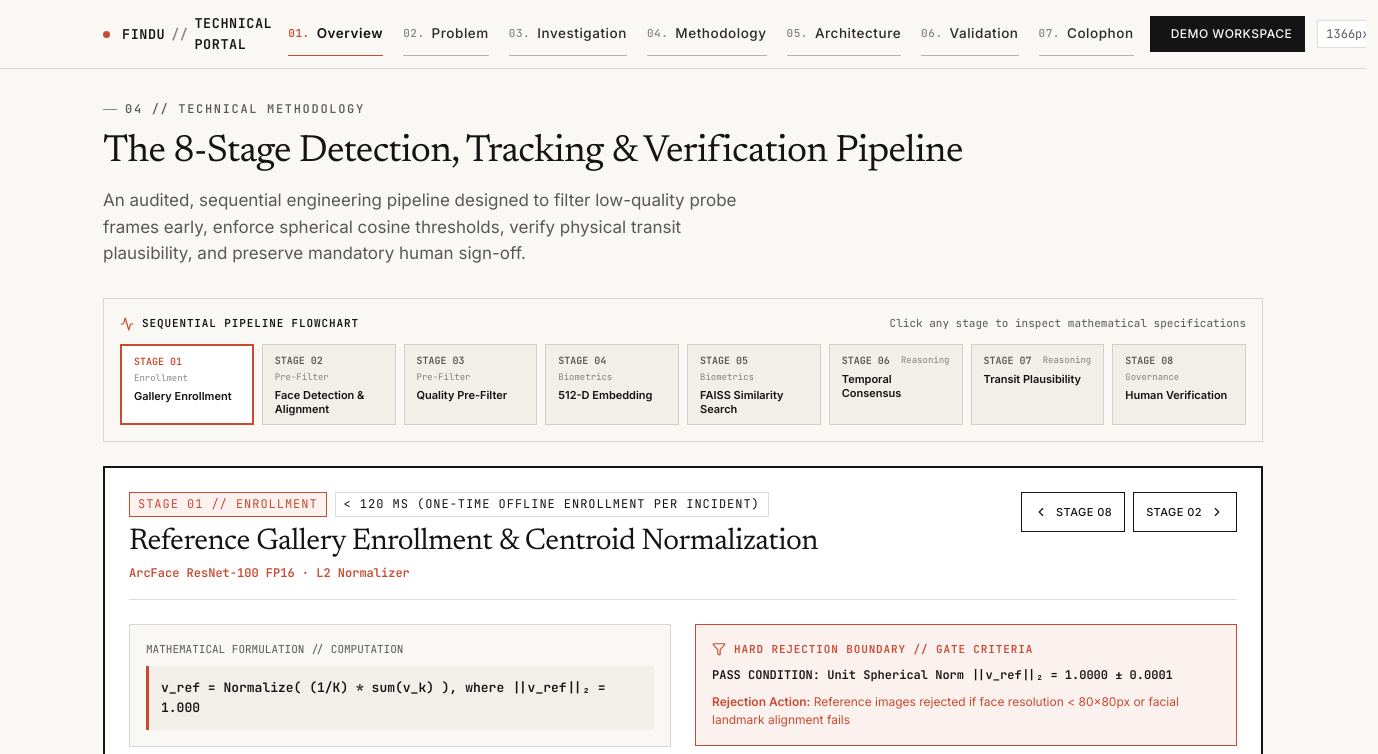
Test case: Phase P6: Technical Methodology & Architecture Verification › Section 04: Technical Methodology Pipeline › displays Stage 01 details by default and allows navigating to Stage 05 (FAISS)
(page scrolled)
Check: the heading "Reference Gallery Enrollment & Centroid Normalization" is shown, box [129,527,818,557]
Click the button "STAGE 05 Biometrics FAISS Similarity Search" at point(754, 385), box [687,344,821,425]
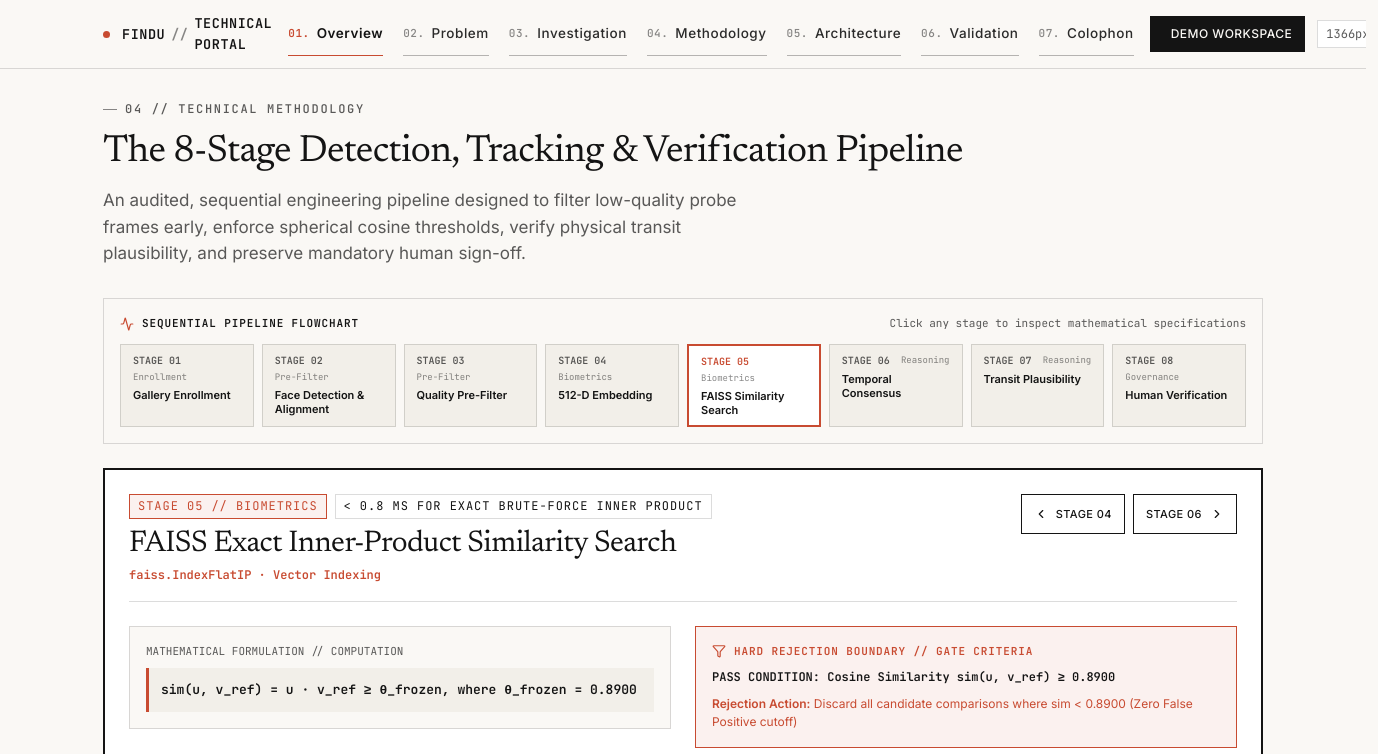
Check: the heading "FAISS Exact Inner-Product Similarity Search" is shown, box [129,529,676,559]
Check: the text "θ_frozen = 0.8900" is shown, box [161,681,637,698]
